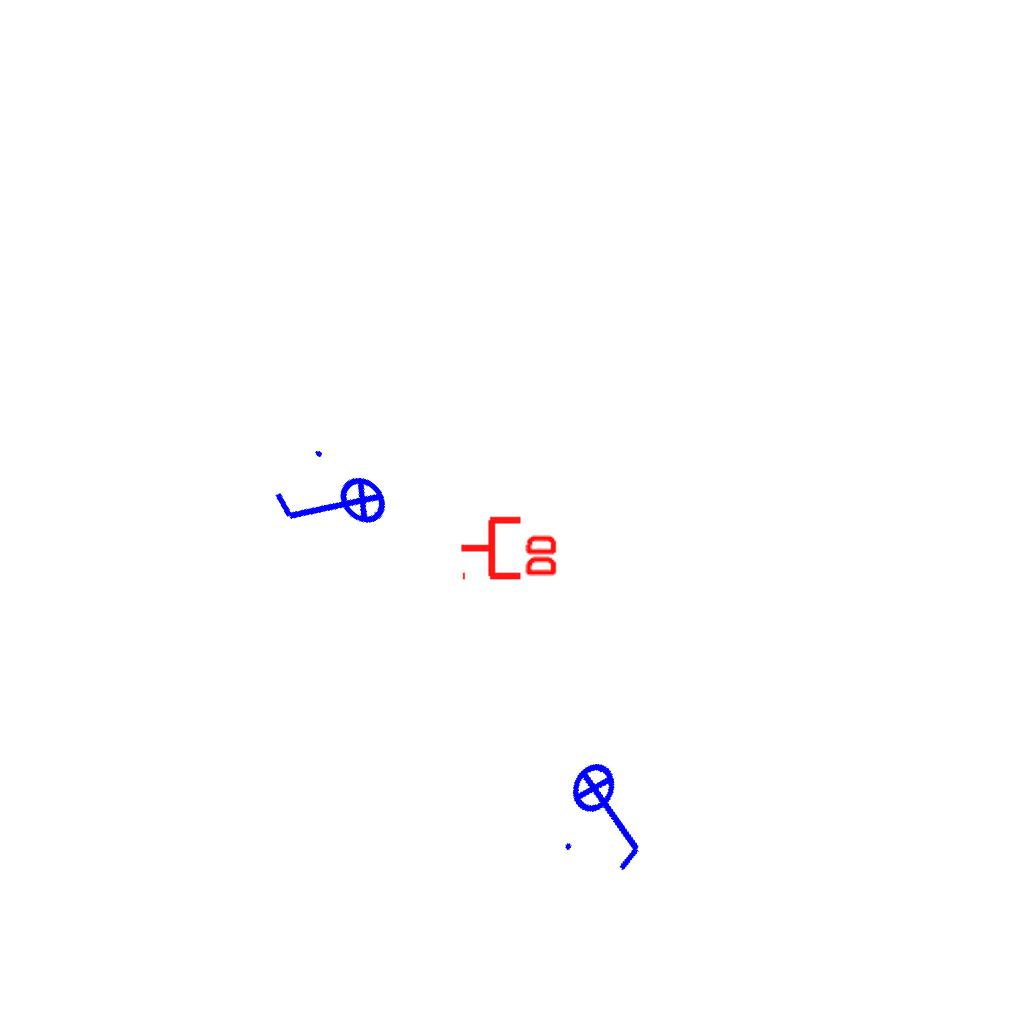Ausschalter_beleuchtet: (258, 432, 406, 580), (544, 743, 678, 885)
Datenanschluss_zweifach: (458, 512, 561, 581)
